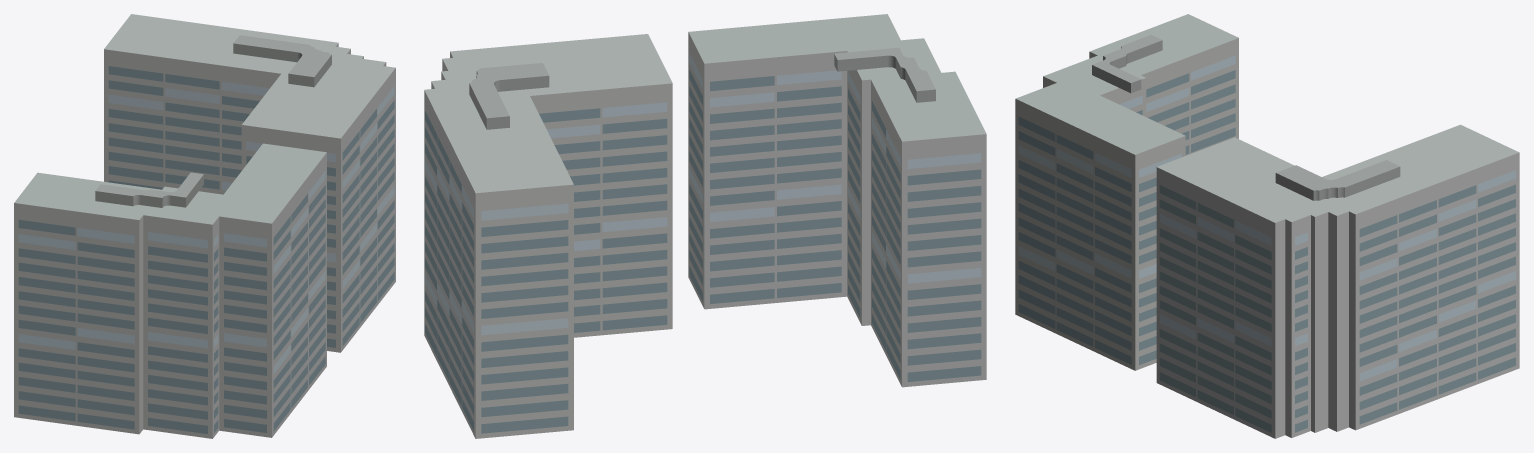
File: apt-a13183303.glb
3 renders of one model, left to right at view 1: azimuth 30°, elevation 25°; view 2: azimuth 150°, elevation 25°; view 3: azimuth 270°, elevation 25°, orthographic. The views are drawn at different scales.
Visible parts, largest first — view 1: apt-a13183303; view 2: apt-a13183303; view 3: apt-a13183303.
Boxes of the visible parts, <box> form: apt-a13183303: <box>14,14,395,438</box>; apt-a13183303: <box>424,14,986,438</box>; apt-a13183303: <box>1015,14,1519,438</box>.
Bounding box in the file's own units: 81.26 × 41 × 82.83.
